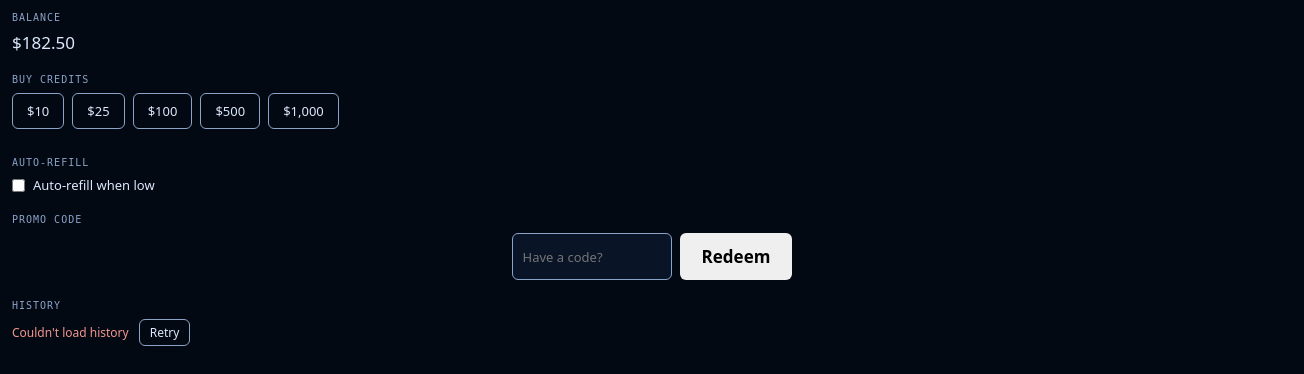
it: history block › shows an inline error + Retry on fetch failure without killing the balance header
Check: the text "Couldn't load history" is shown, box x1=12 y1=324 x2=129 y2=341
Check: the text "$182.50" is shown, box x1=12 y1=31 x2=75 y2=54
Click the button with aria-label "Retry history" at (164, 332), box x1=139 y1=319 x2=190 y2=346
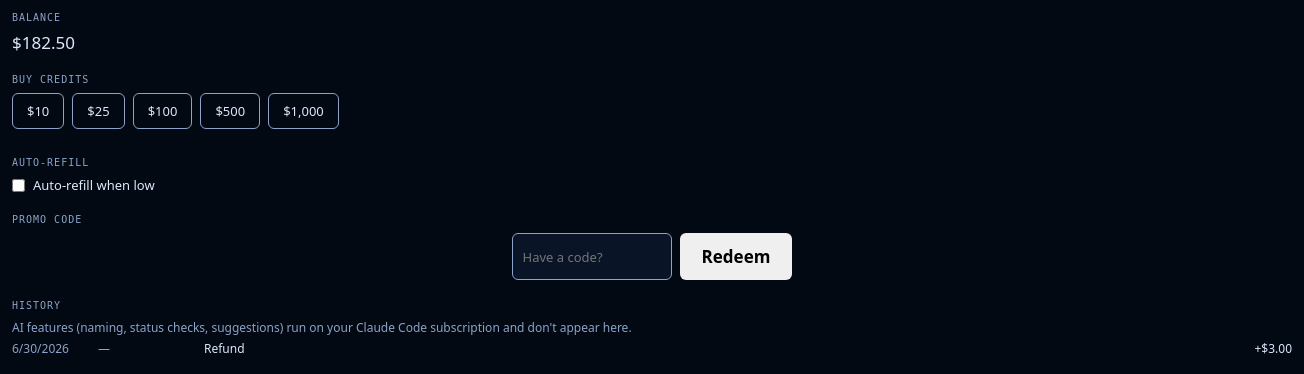
Check: the text "Refund" is shown, box x1=204 y1=340 x2=245 y2=357
